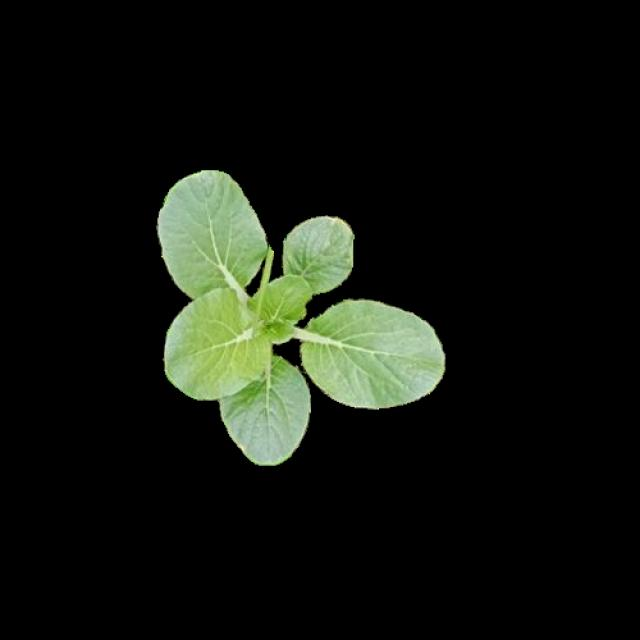healthy: (154, 169, 444, 458)
not-mature: (156, 171, 447, 461)
